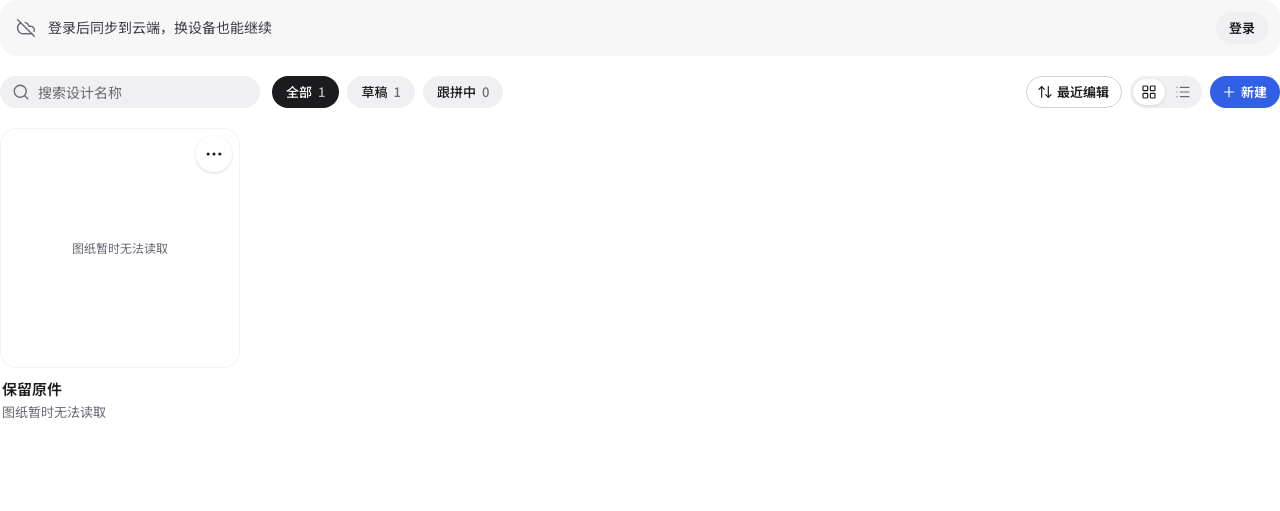
Test: 我的 · 设计 › 打开时本地读取失败不下载覆盖、不跳转
The width and height of the screenshot is (1280, 511).
Click the link named "打开「保留原件」（草稿）": (120, 275) [0, 128, 240, 422]
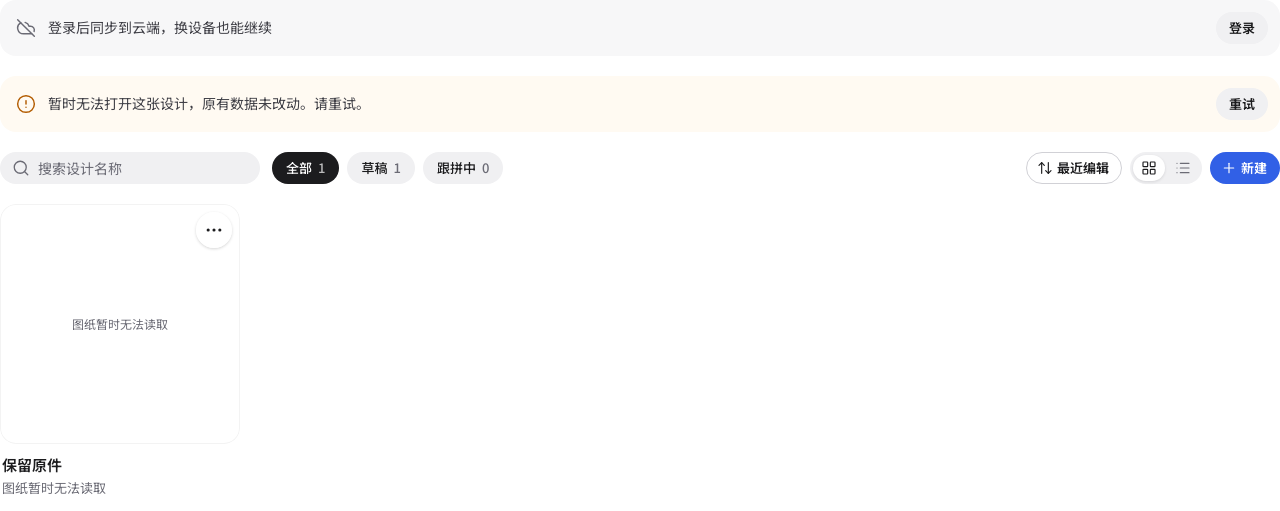
Check: the text "暂时无法打开这张设计，原有数据未改动。请重试。" is shown, box [48, 95, 370, 112]
